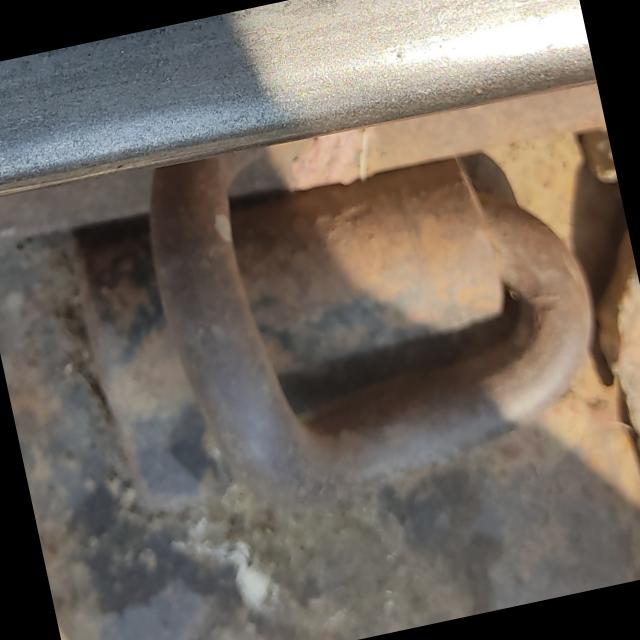track_bolt: (125, 88, 628, 530)
